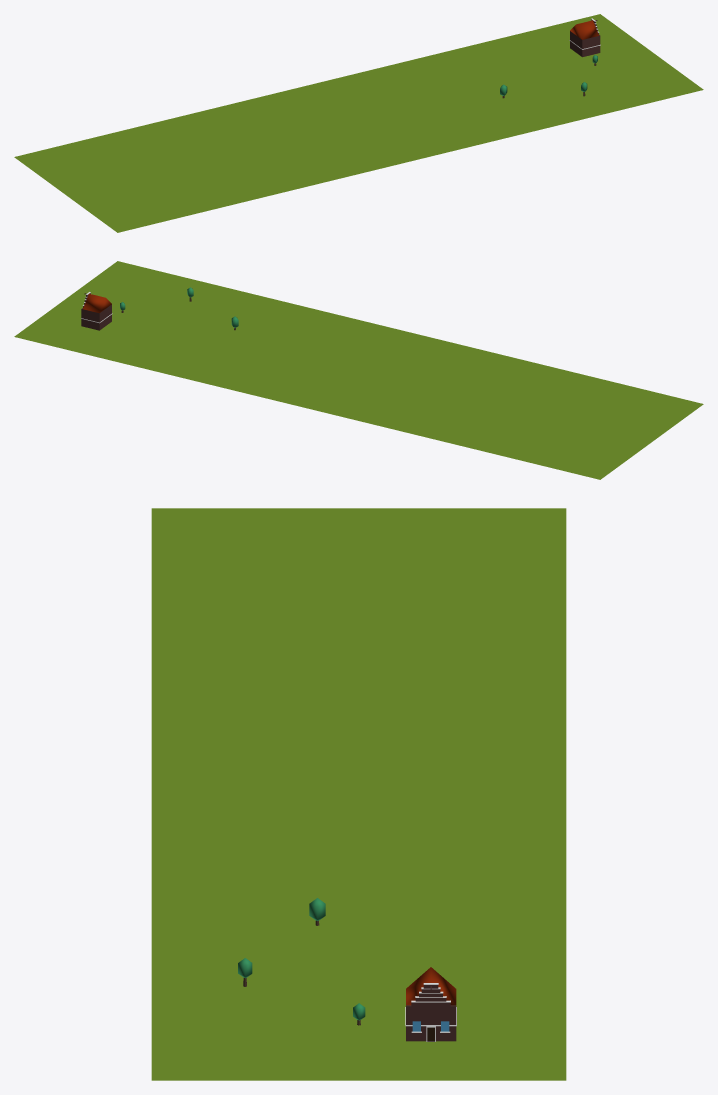
File: city_nature_left1.glb
The picture shows the model from 3 angles, top to bottom: view 1: azimuth 30°, elevation 25°; view 2: azimuth 150°, elevation 25°; view 3: azimuth 270°, elevation 25°; orthographic projection. The views are drawn at different scales.
Size of the model in its own units: 98 by 4.62 by 30.
